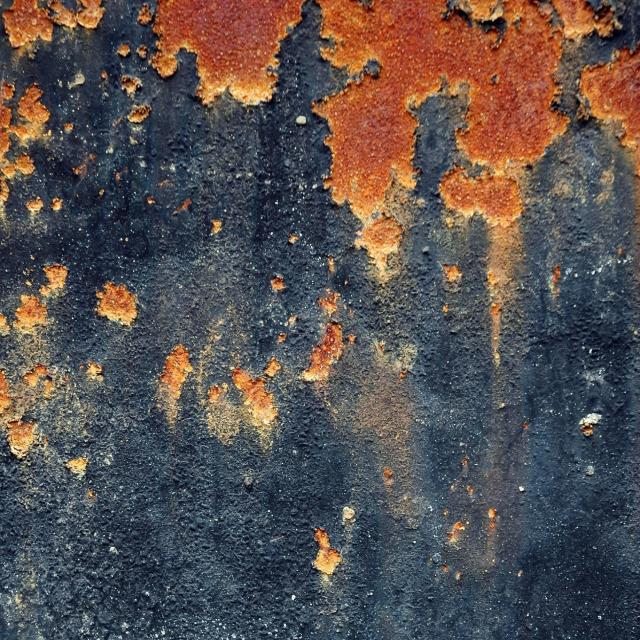Uniform Corrosion: (316, 0, 564, 217), (153, 0, 304, 104), (0, 264, 70, 458), (578, 49, 640, 176), (0, 81, 50, 208), (203, 357, 279, 439), (439, 165, 522, 226), (116, 3, 157, 124), (3, 0, 104, 48), (354, 214, 408, 291), (301, 322, 345, 384), (552, 0, 619, 39), (160, 345, 192, 420), (96, 281, 137, 326), (312, 527, 342, 577)
